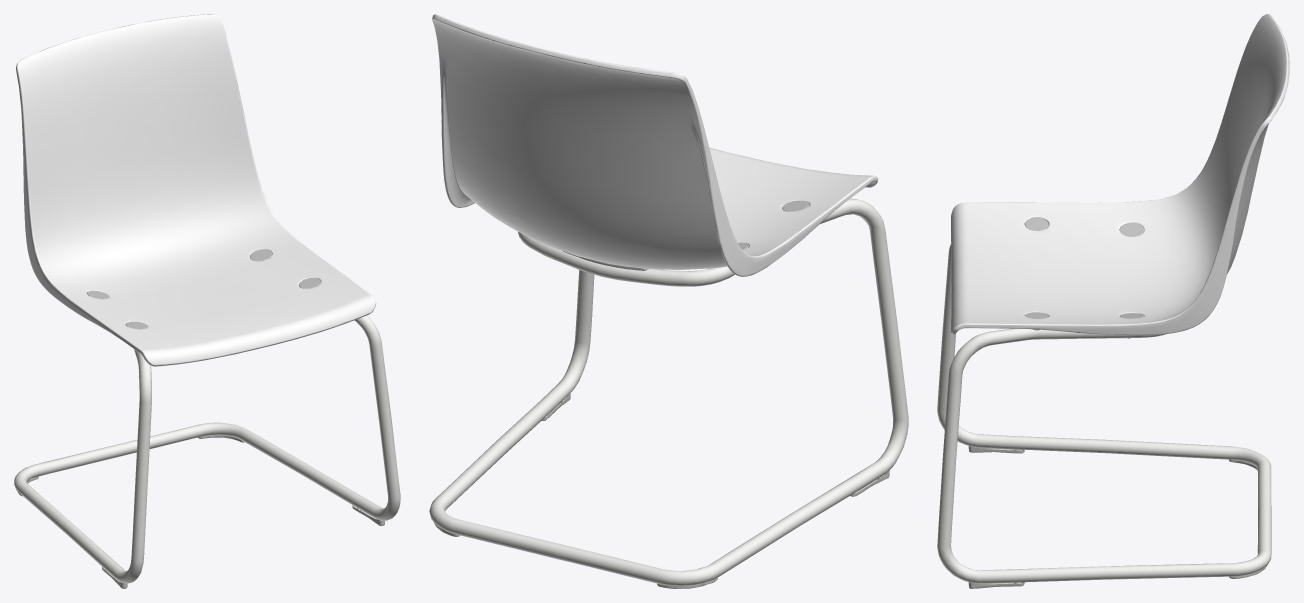
File: tobias_krzeso_80349671.glb
3 views of the same model, side by side, from view 1: azimuth 30°, elevation 25°; view 2: azimuth 150°, elevation 25°; view 3: azimuth 270°, elevation 25° (orthographic). The views are drawn at different scales.
Visible parts, largest first — view 1: tobias_krzeso_80349671; view 2: tobias_krzeso_80349671; view 3: tobias_krzeso_80349671.
Part boxes in pixels (left/top/right/bottom): tobias_krzeso_80349671: left=14, top=14, right=400, bottom=588; tobias_krzeso_80349671: left=429, top=14, right=908, bottom=588; tobias_krzeso_80349671: left=937, top=14, right=1289, bottom=588.
Size of the model in its own units: 0.5481 by 0.8191 by 0.5738.
2 materials, 2 textured.
